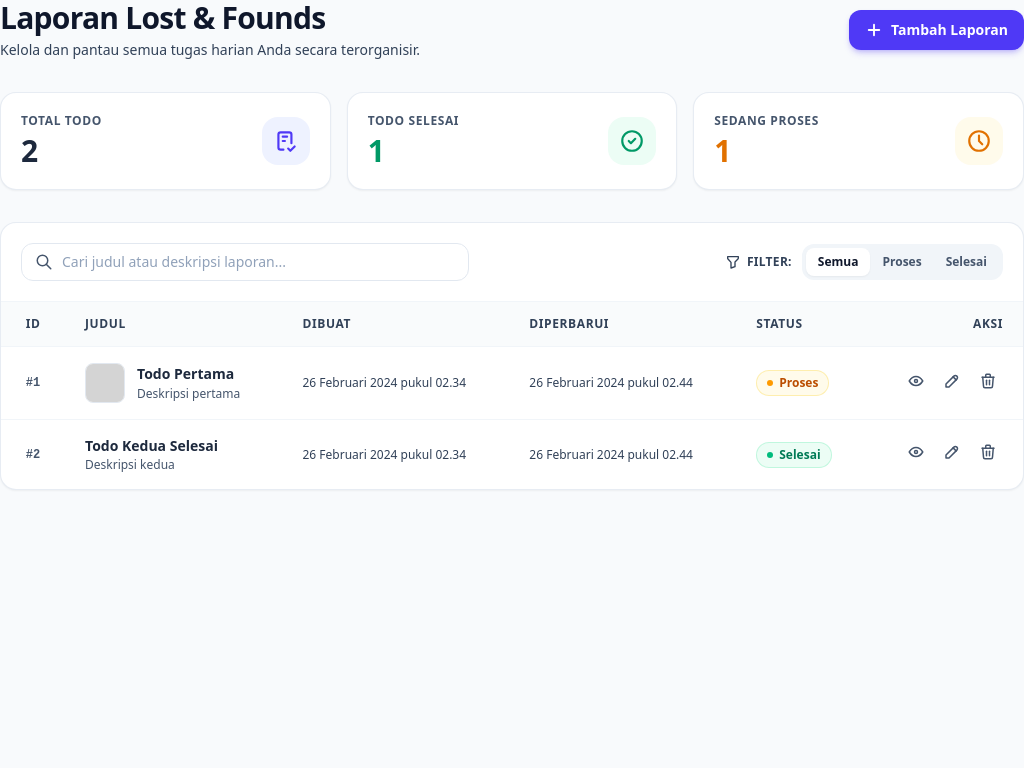
Scenario: HomePage › should open and close AddModal when Tambah Laporan button clicked
Click the button with test id "add-todo-btn": (936, 30) [849,10,1023,50]
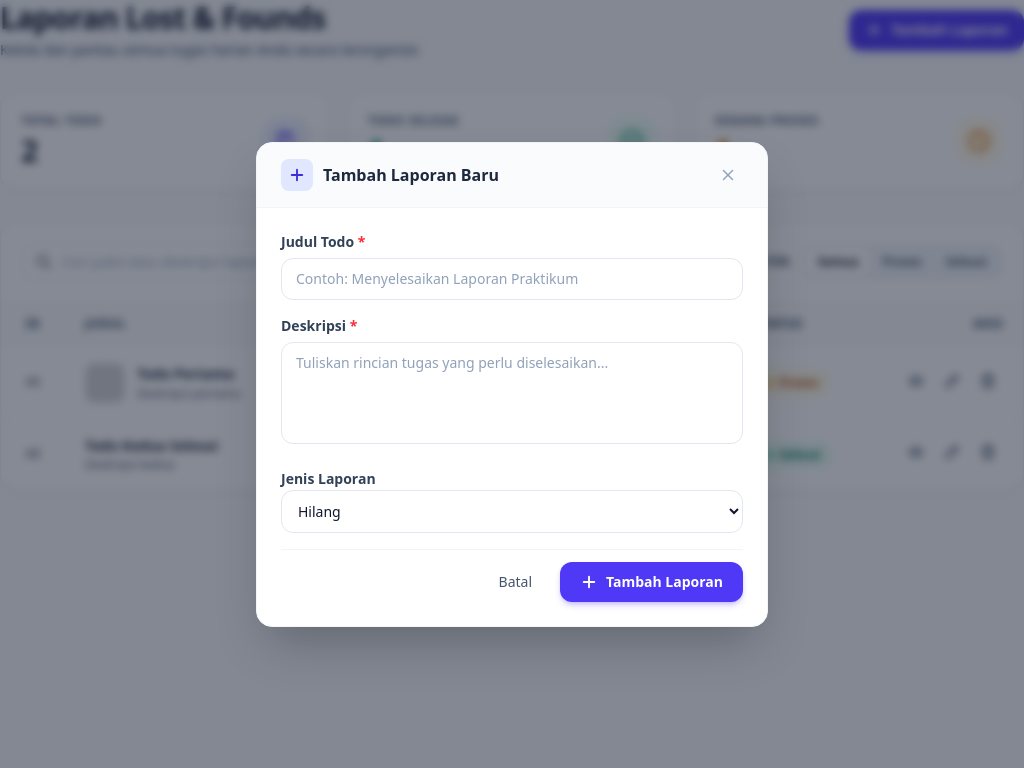
Expected: the element with test id "add-todo-modal" is shown
Click the button with test id "close-add-modal-btn": (728, 174) [713,160,743,190]
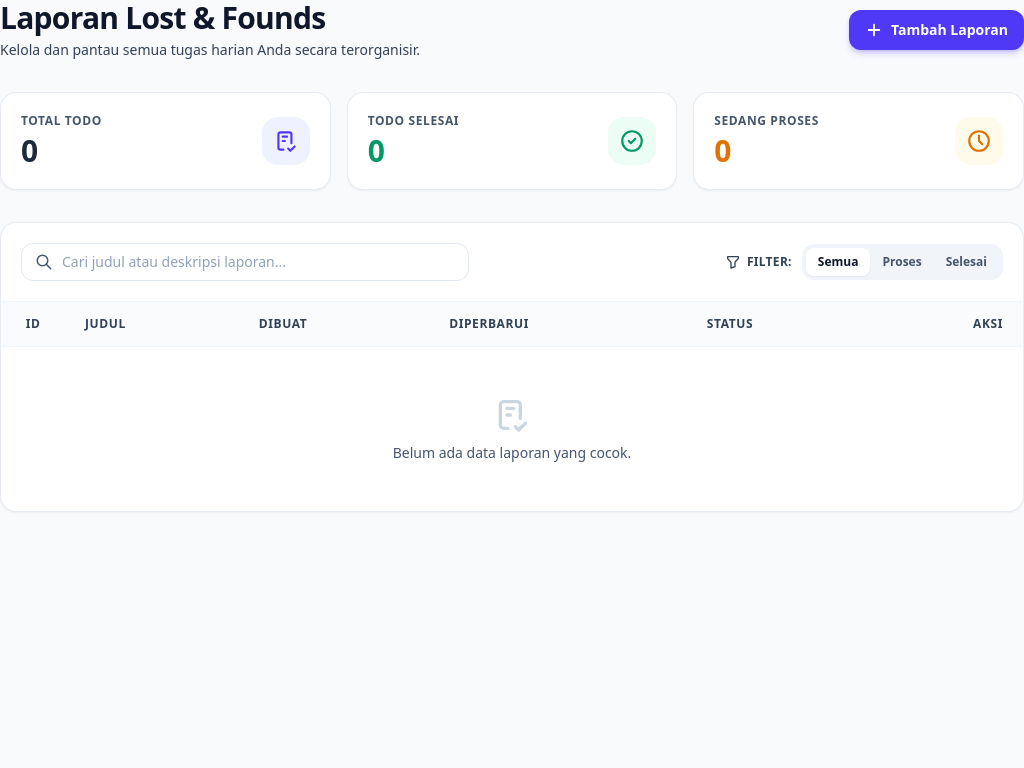
Expected: the element with test id "add-todo-modal" is gone
